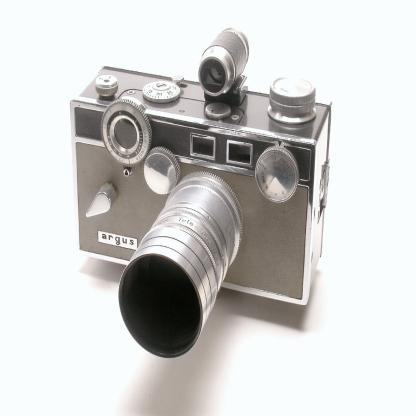Camera: (67, 49, 339, 356)
